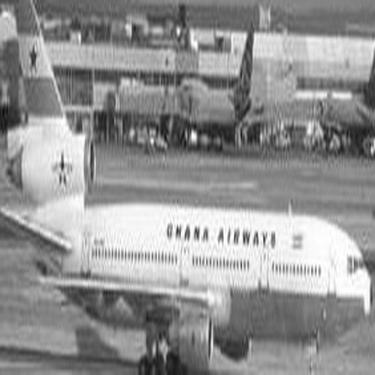airplane: (3, 5, 371, 372), (95, 19, 265, 138), (303, 44, 371, 140)
